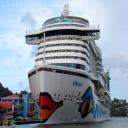cruises: (25, 5, 114, 128)
